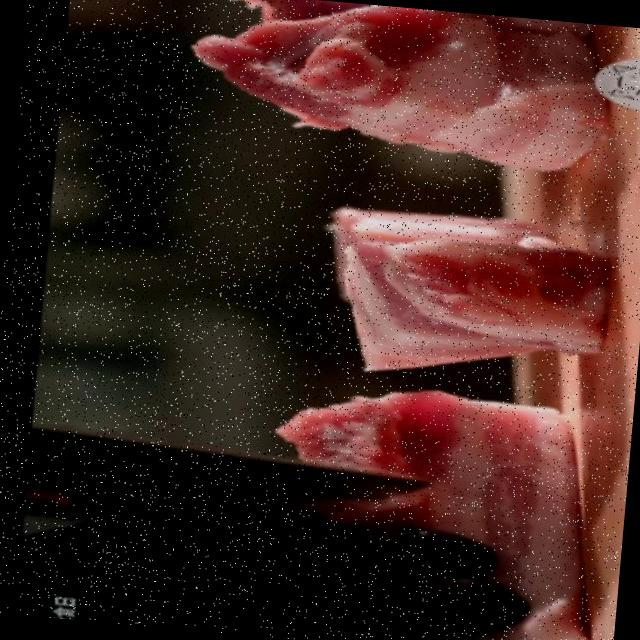pork: (185, 0, 622, 175), (298, 192, 640, 386), (241, 372, 575, 548)
